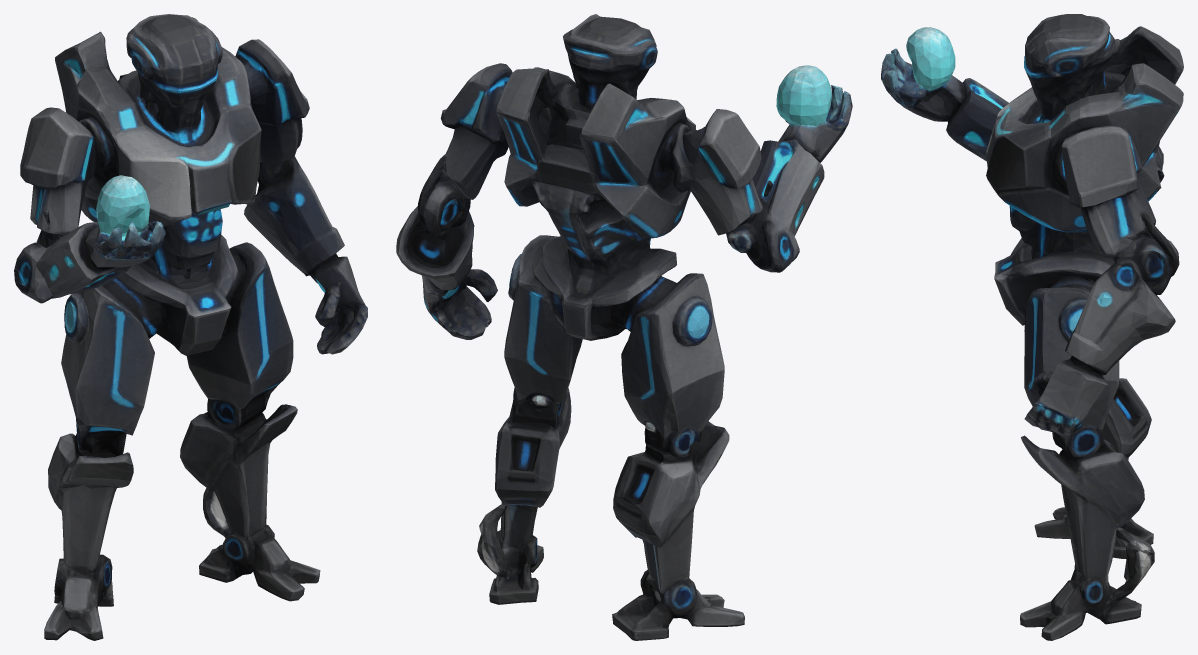
Rendered from player.glb.
3 views of the same model, side by side, from view 1: azimuth 30°, elevation 25°; view 2: azimuth 150°, elevation 25°; view 3: azimuth 270°, elevation 25° (orthographic). The views are drawn at different scales.
Visible parts, largest first — view 1: world; view 2: world; view 3: world.
Part boxes in pixels (<box>): world: <box>14,14,367,640</box>; world: <box>396,14,852,640</box>; world: <box>881,14,1183,640</box>.
Size of the model in its own units: 0.6375 by 0.9988 by 0.492.
Materials: 1 (1 with a texture image).
